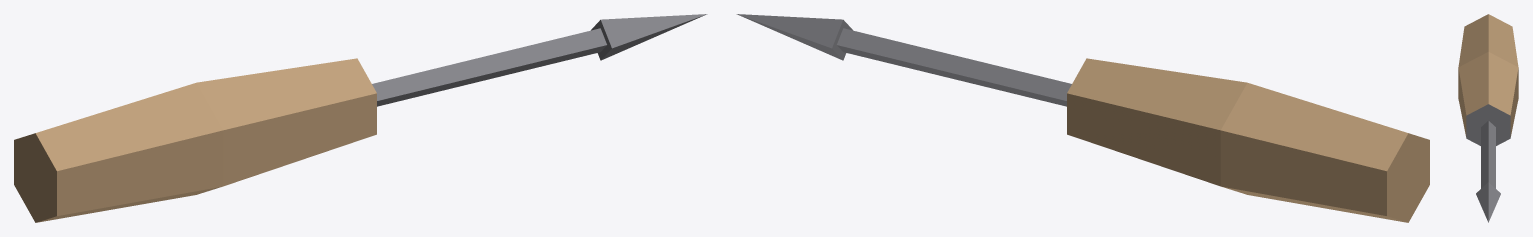
File: prop-inkhorn-borer-ih1.fbx
The picture shows the model from 3 angles, left to right: view 1: azimuth 30°, elevation 25°; view 2: azimuth 150°, elevation 25°; view 3: azimuth 270°, elevation 25°; orthographic projection. The views are drawn at different scales.
Visible parts, largest first — view 1: prop-inkhorn-borer-ih1; view 2: prop-inkhorn-borer-ih1; view 3: prop-inkhorn-borer-ih1.
Boxes of the visible parts, left/top/right/bottom form: prop-inkhorn-borer-ih1: left=14, top=14, right=707, bottom=222; prop-inkhorn-borer-ih1: left=736, top=14, right=1429, bottom=222; prop-inkhorn-borer-ih1: left=1458, top=14, right=1518, bottom=222.
Size of the model in its own units: 18.8 by 3 by 2.6.
